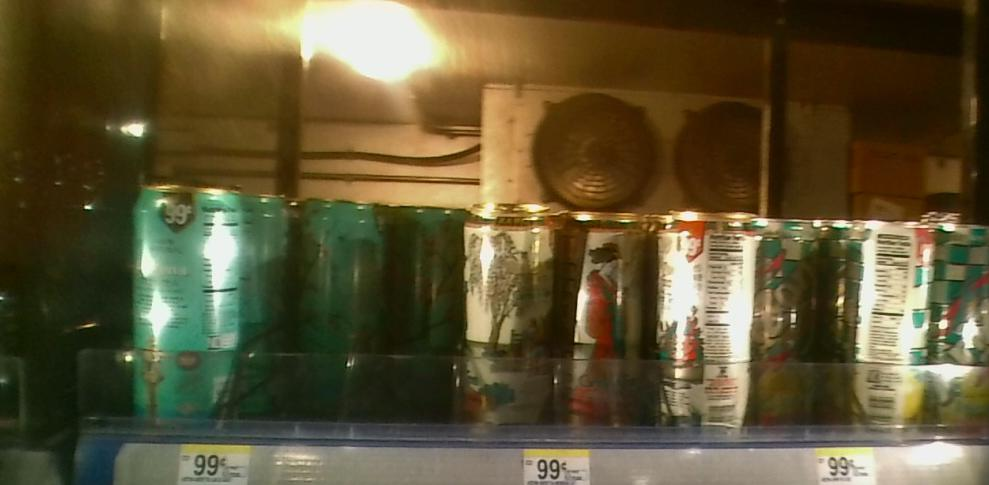bottle: (125, 170, 238, 422), (652, 202, 751, 435), (460, 199, 556, 420), (293, 197, 386, 414), (835, 214, 927, 431), (564, 208, 648, 429), (750, 212, 821, 420), (390, 197, 457, 354), (936, 226, 989, 415)
